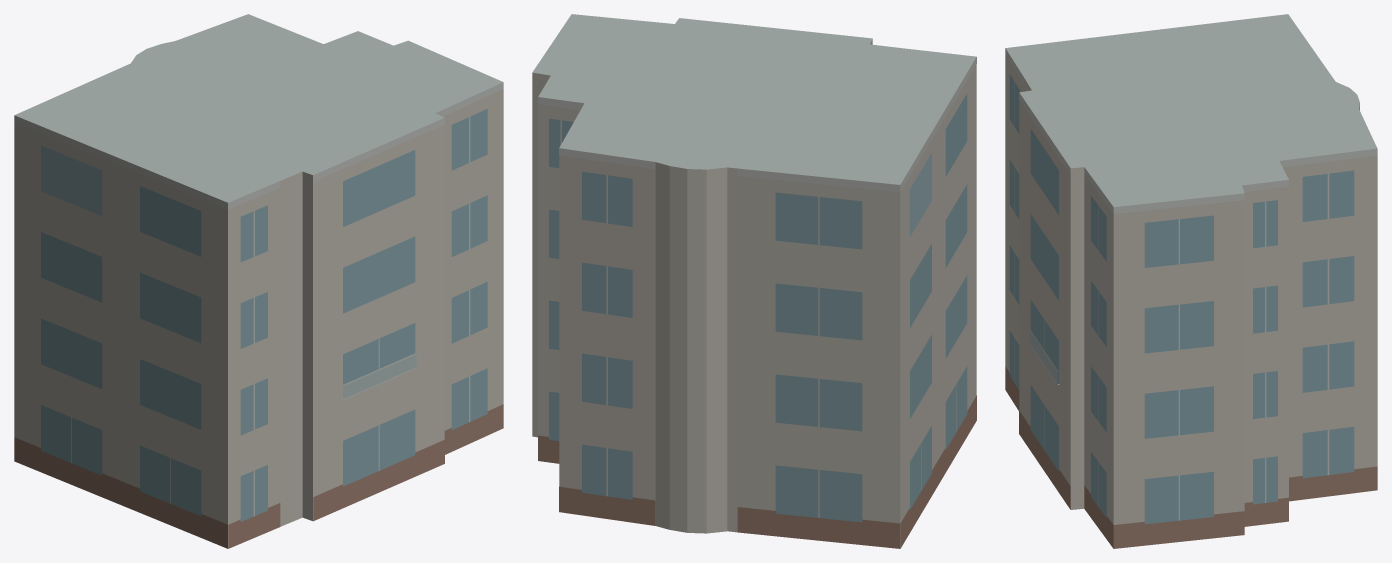
Rendered from survey-upis-32988744.glb.
3 renders of one model, left to right at view 1: azimuth 30°, elevation 25°; view 2: azimuth 150°, elevation 25°; view 3: azimuth 270°, elevation 25°, orthographic. The views are drawn at different scales.
Visible parts, largest first — view 1: survey-upis-32988744.tmp; view 2: survey-upis-32988744.tmp; view 3: survey-upis-32988744.tmp.
Part boxes in pixels (x1,y1,x2,y2): survey-upis-32988744.tmp: [14, 14, 503, 548]; survey-upis-32988744.tmp: [532, 14, 976, 548]; survey-upis-32988744.tmp: [1005, 14, 1377, 548].
Bounding box in the file's own units: 14.8 × 12.2 × 12.05.
